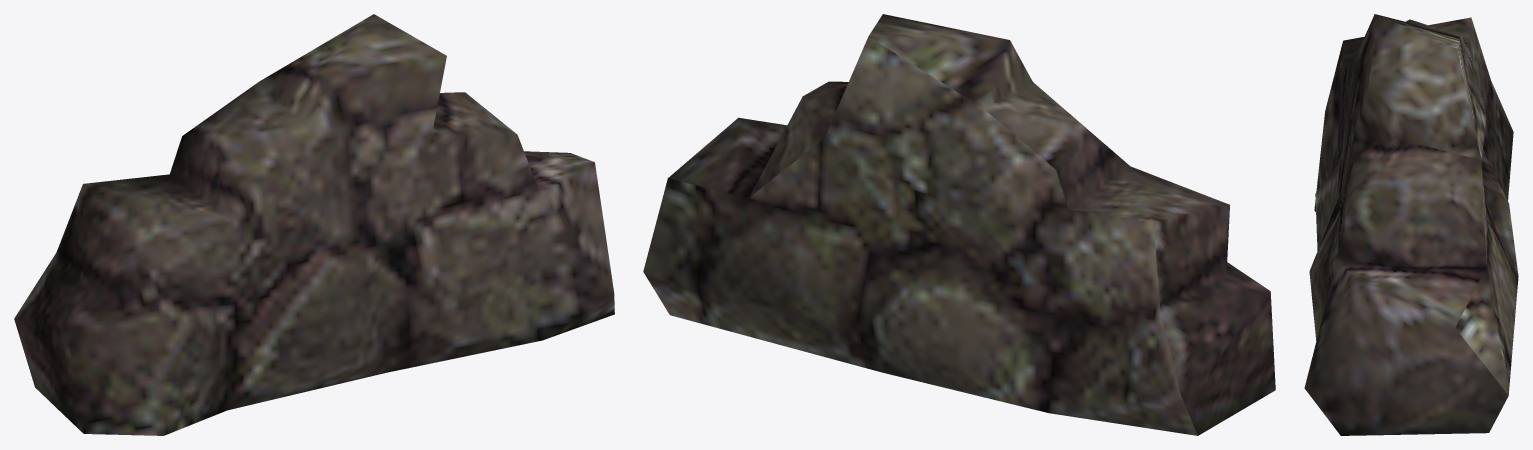
File: Scene_Stonewall_02.FBX
3 renders of one model, left to right at view 1: azimuth 30°, elevation 25°; view 2: azimuth 150°, elevation 25°; view 3: azimuth 270°, elevation 25°, orthographic. The views are drawn at different scales.
Parts seen in each view (by area): view 1: Scene_Stonewall_02; view 2: Scene_Stonewall_02; view 3: Scene_Stonewall_02.
Part boxes in pixels (x1,y1,x2,y2): Scene_Stonewall_02: (14, 14, 614, 435); Scene_Stonewall_02: (643, 14, 1275, 435); Scene_Stonewall_02: (1304, 14, 1518, 435).
Bounding box in the file's own units: 4.71 × 2.51 × 1.62.
